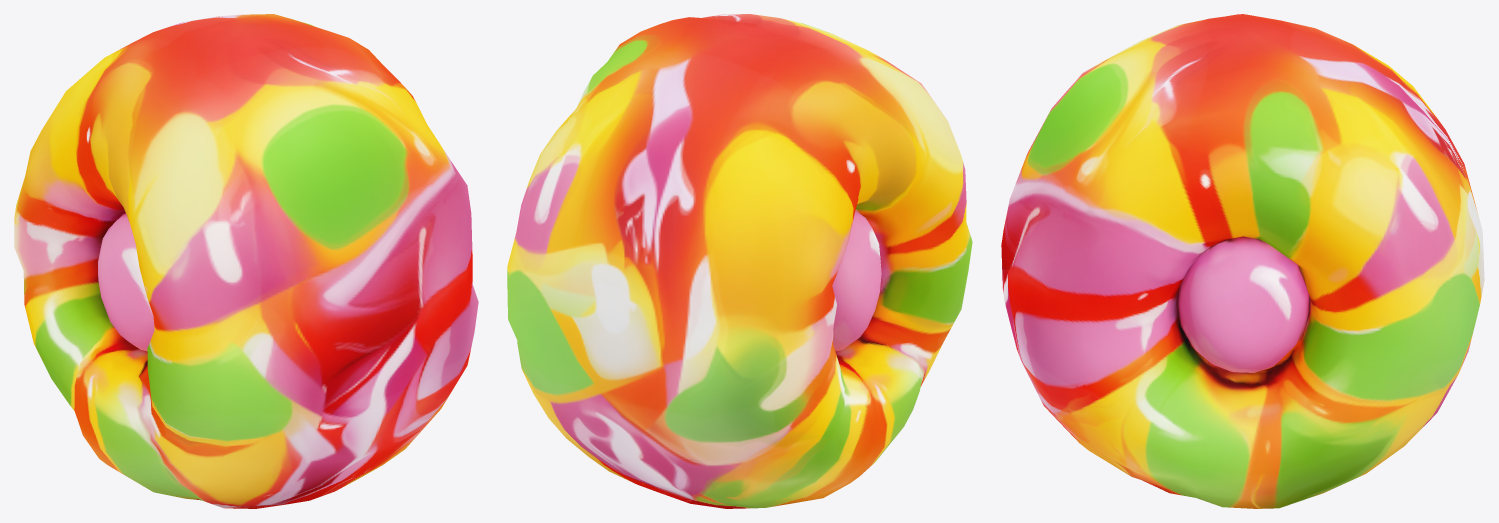
File: lod_basic_shaded.fbx
The picture shows the model from 3 angles, left to right: view 1: azimuth 30°, elevation 25°; view 2: azimuth 150°, elevation 25°; view 3: azimuth 270°, elevation 25°; orthographic projection.
Visible parts, largest first — view 1: model_LOD0; view 2: model_LOD0; view 3: model_LOD0.
Part boxes in pixels (<box>): model_LOD0: <box>14,14,478,508</box>; model_LOD0: <box>507,14,972,508</box>; model_LOD0: <box>1001,14,1484,508</box>.
Size of what is drawn, in the model's own units: 134 by 185 by 180.
